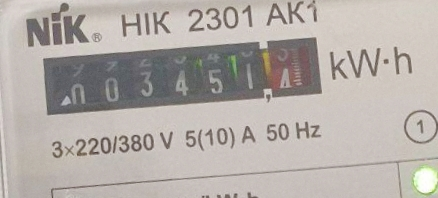0: (65, 77, 88, 106), (100, 73, 122, 103)
1: (239, 58, 259, 91)
3: (134, 66, 157, 99)
4: (168, 65, 192, 100), (272, 63, 295, 93)
5: (204, 63, 225, 96)
screen: (33, 18, 329, 135)
